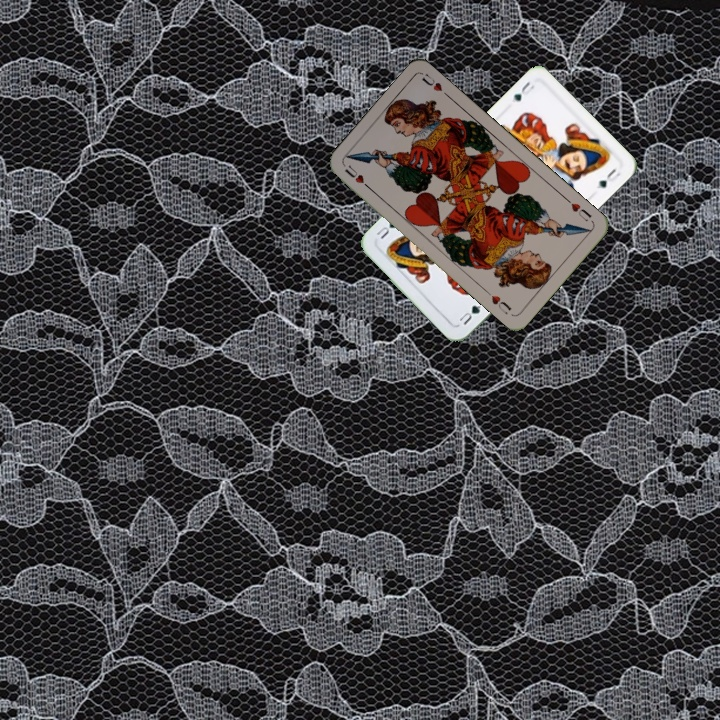GU: (508, 77, 537, 105), (455, 301, 484, 328)
HU: (340, 161, 374, 192), (562, 194, 594, 224)
